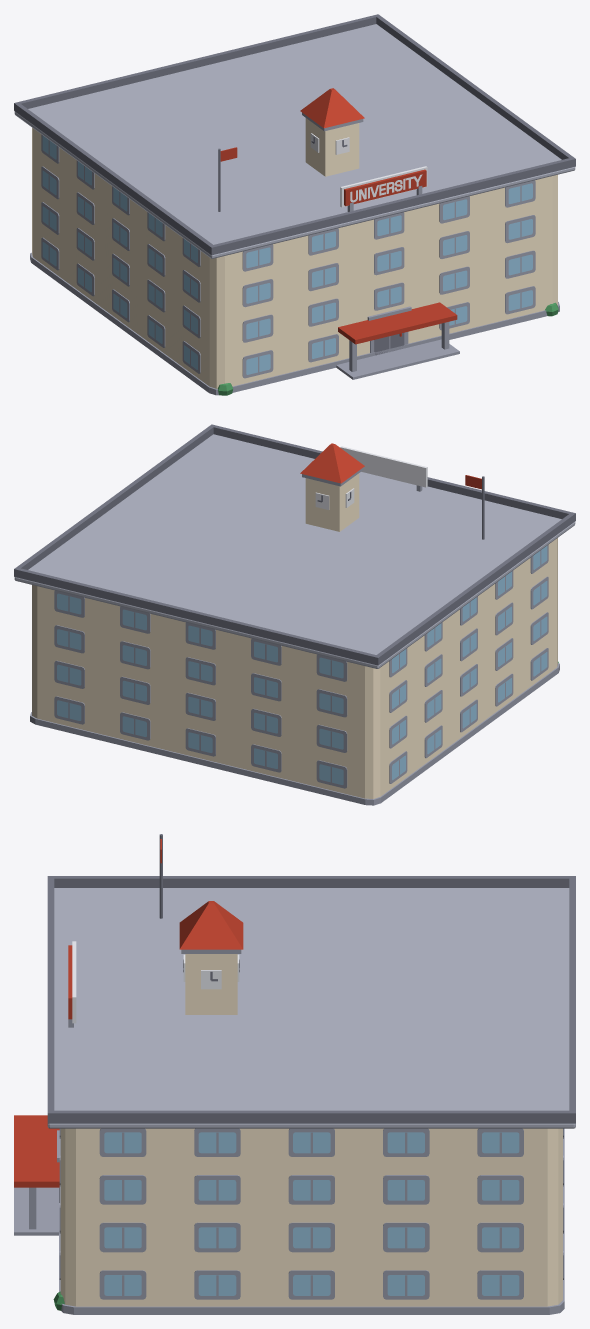
Rendered from university-3x3-4f.glb.
The picture shows the model from 3 angles, top to bottom: view 1: azimuth 30°, elevation 25°; view 2: azimuth 150°, elevation 25°; view 3: azimuth 270°, elevation 25°; orthographic projection. The views are drawn at different scales.
Parts seen in each view (by area): view 1: university-3x3-4f; view 2: university-3x3-4f; view 3: university-3x3-4f.
Boxes of the visible parts, x1,y1,x2,y2 form: university-3x3-4f: (14, 14, 575, 395); university-3x3-4f: (14, 424, 575, 805); university-3x3-4f: (14, 834, 575, 1314).
Bounding box in the file's own units: 3 × 1.76 × 3.
Materials: 1 (1 with a texture image).
